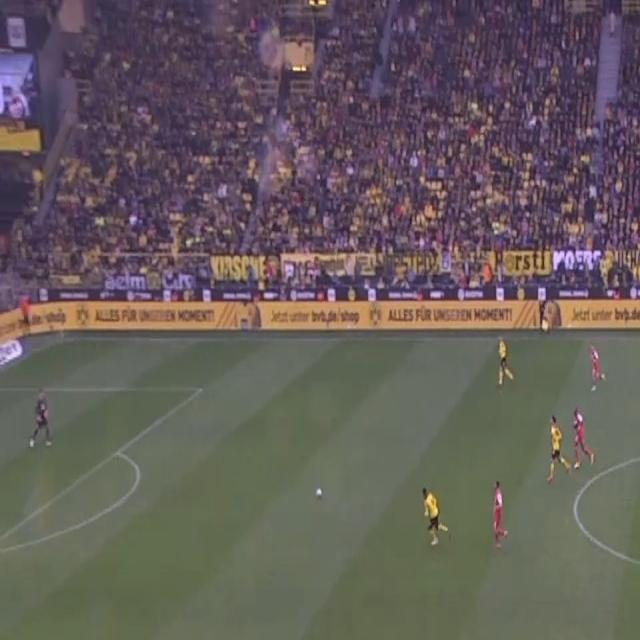ball: (315, 486, 323, 500)
